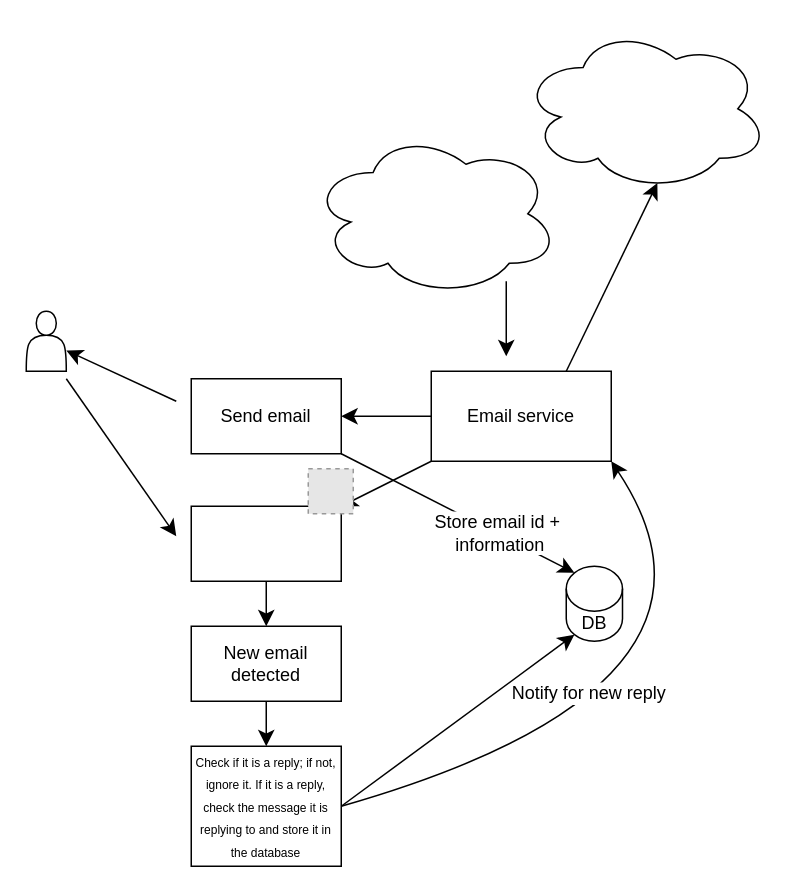
The diagram is 795 pixels wide and 893 high, and some of its shapes have lost their labels. Grey dashed boxes stand in for pictures. Here are the shapes that lost their labels. From the top down, the box of each, then its label:
(520, 25, 769, 191): Send new information for news generator agents...
(310, 130, 559, 296): Get the command to send an email and ask questions to a specific person
(190, 505, 341, 581): Check email box
